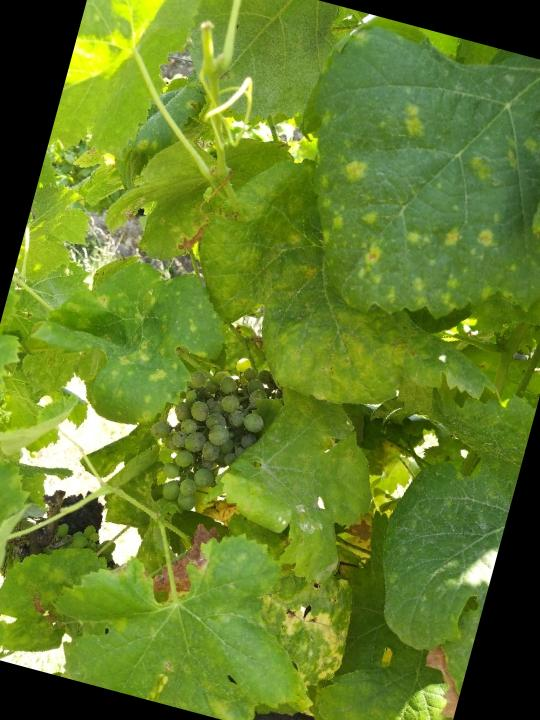grape: (129, 336, 283, 529)
